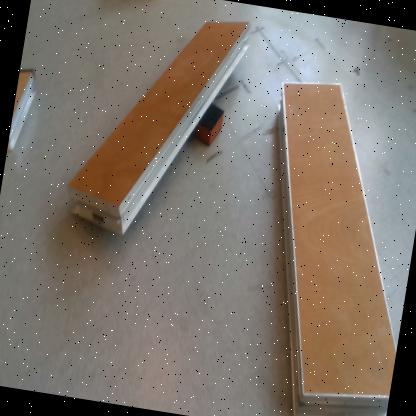Stairs: (66, 18, 253, 240), (277, 84, 397, 416), (7, 71, 37, 153)
